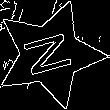N_E: (19, 28, 81, 80)
